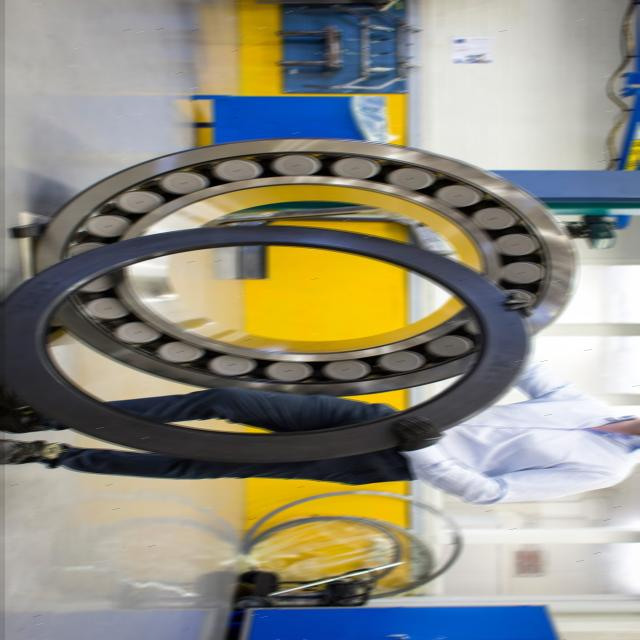Bearing: (27, 136, 575, 394)
